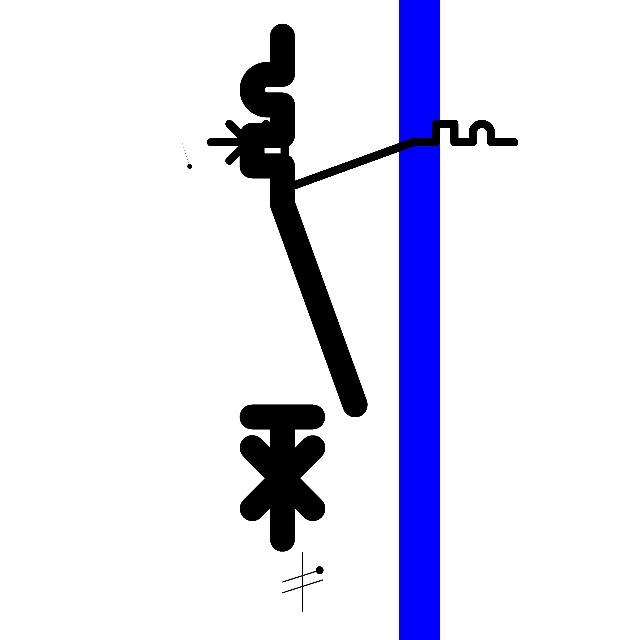interruptor_termomagnetico: (239, 23, 368, 552), (203, 116, 522, 194)
